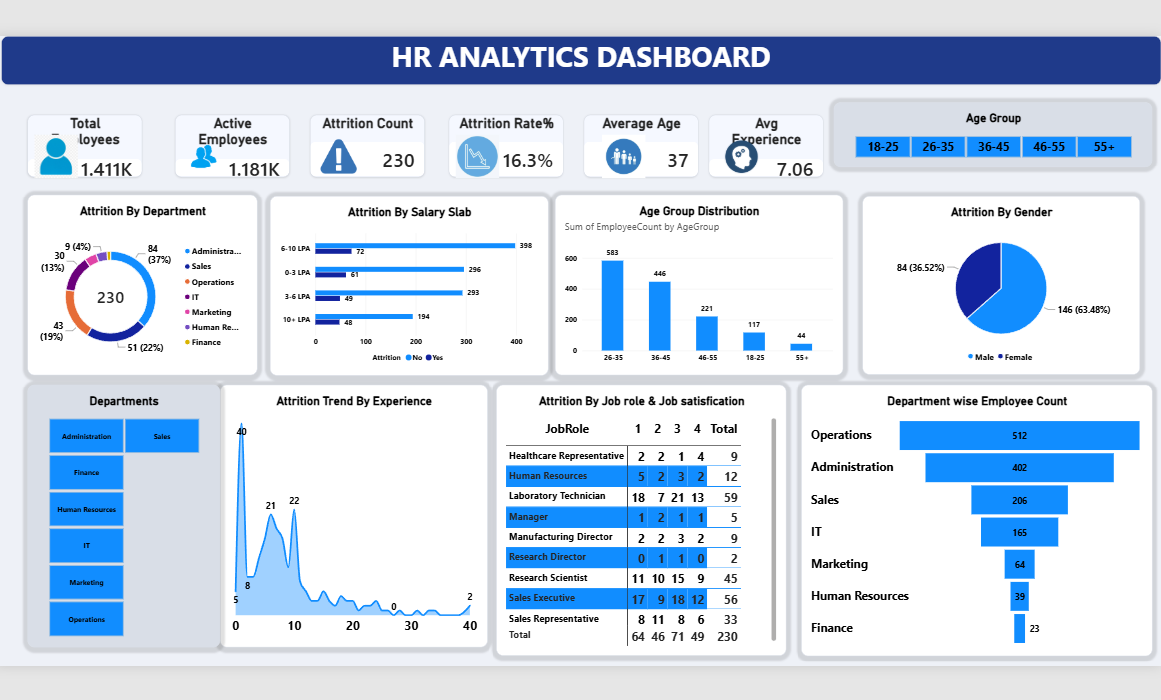

The dashboard page shown, as its layout file describes it:
{"tool":"powerbi","page":{"name":"Page 1","canvas":[2000,1080],"ordinal":0},"visuals":[{"type":"textbox","box":[10.7,0,1989.7,83.6],"z":0},{"type":"cardVisual","title":"Total Employees","fields":{"Data":["CountNonNull(HR_Analytics-4.EmpID)"]},"box":[55.6,135.8,197,107],"z":1000},{"type":"cardVisual","title":"Active Employees","fields":{"Data":["Sum(HR_Analytics-4.EmployeeCount)"]},"box":[308.7,135.8,197,107],"z":2000},{"type":"cardVisual","title":"Attrition Count","fields":{"Data":["Sum(HR_Analytics-4.AttritionCount)"]},"box":[541.3,135.8,197,107],"z":3000},{"type":"cardVisual","title":"Attrition Rate%","fields":{"Data":["HR_Analytics-4.Attrition Rate %"]},"box":[778,135.8,197,107],"z":4000},{"type":"cardVisual","title":"Average Age","fields":{"Data":["Avg(HR_Analytics-4.Age)"]},"box":[1010.6,135.8,197,107],"z":5000},{"type":"cardVisual","title":"Avg Experience","fields":{"Data":["Avg(HR_Analytics-4.YearsatCompany)"]},"box":[1224.7,135.8,197,107],"z":6000},{"type":"image","box":[55.6,168.8,98.8,74.1],"z":7000},{"type":"image","box":[1224.7,168.8,113.2,74.1],"z":8000},{"type":"image","box":[1029.2,168.8,98.8,74.1],"z":9000},{"type":"image","box":[778,168.8,98.8,74.1],"z":10000},{"type":"image","box":[541.3,168.8,98.8,74.1],"z":11000},{"type":"image","box":[308.7,168.8,98.8,74.1],"z":12000},{"type":"donutChart","title":" Attrition By Department","fields":{"Y":["Sum(HR_Analytics-4.AttritionCount)"],"Category":["HR_Analytics-4.Department"]},"box":[56.1,273.3,394.5,309.5],"z":13000},{"type":"clusteredBarChart","title":"Attrition By Salary Slab","fields":{"Category":["HR_Analytics-4.SalarySlab"],"Y":["CountNonNull(HR_Analytics-4.EmpID)"],"Series":["HR_Analytics-4.Attrition"]},"box":[472.3,275.1,477.8,307.6],"z":14000},{"type":"pivotTable","title":"Attrition By Job role & Job satisfication ","fields":{"Rows":["HR_Analytics-4.JobRole"],"Values":["Sum(HR_Analytics-4.AttritionCount)"],"Columns":["HR_Analytics-4.JobSatisfaction"]},"box":[859.8,598.2,497.7,465.1],"z":15000},{"type":"columnChart","title":"Age Group Distribution","fields":{"Category":["HR_Analytics-4.AgeGroup"],"Y":["Sum(HR_Analytics-4.EmployeeCount)"]},"box":[961.4,272.9,494,309.5],"z":16000},{"type":"pieChart","title":"Attrition By Gender","fields":{"Category":["HR_Analytics-4.Gender"],"Y":["Sum(HR_Analytics-4.AttritionCount)"]},"box":[1488,274.4,476,306.6],"z":17000},{"type":"areaChart","title":"Attrition Trend By Experience","fields":{"Category":["HR_Analytics-4.TotalExperience(Years)"],"Y":["Sum(HR_Analytics-4.AttritionCount)"]},"box":[385.9,598.2,458.8,450.3],"z":18000},{"type":"funnel","title":"Department wise Employee Count","fields":{"Category":["HR_Analytics-4.Department"],"Y":["CountNonNull(HR_Analytics-4.EmpID)"]},"box":[1382.9,598.2,602.5,465.3],"z":19000},{"type":"slicer","title":"Departments","fields":{"Values":["HR_Analytics-4.Department"]},"box":[56,598,330,450],"z":20000},{"type":"slicer","title":"Age Group","fields":{"Values":["HR_Analytics-4.AgeGroup"]},"box":[1438.7,113.6,546.7,111.5],"z":20001}]}

Visuals, with their boxes on the page's 2000x1080 design canvas (x1, y1, x2, y2). These are canvas units, not pixel positions in the 1161x700 screenshot, which may show the page scaled, cropped or inside an application window:
textbox: (x1=11, y1=0, x2=2000, y2=84)
"Total Employees" cardVisual: (x1=56, y1=136, x2=253, y2=243)
"Active Employees" cardVisual: (x1=309, y1=136, x2=506, y2=243)
"Attrition Count" cardVisual: (x1=541, y1=136, x2=738, y2=243)
"Attrition Rate%" cardVisual: (x1=778, y1=136, x2=975, y2=243)
"Average Age" cardVisual: (x1=1011, y1=136, x2=1208, y2=243)
"Avg Experience" cardVisual: (x1=1225, y1=136, x2=1422, y2=243)
image: (x1=56, y1=169, x2=154, y2=243)
image: (x1=1225, y1=169, x2=1338, y2=243)
image: (x1=1029, y1=169, x2=1128, y2=243)
image: (x1=778, y1=169, x2=877, y2=243)
image: (x1=541, y1=169, x2=640, y2=243)
image: (x1=309, y1=169, x2=408, y2=243)
" Attrition By Department" donutChart: (x1=56, y1=273, x2=451, y2=583)
"Attrition By Salary Slab" clusteredBarChart: (x1=472, y1=275, x2=950, y2=583)
"Attrition By Job role & Job satisfication " pivotTable: (x1=860, y1=598, x2=1358, y2=1063)
"Age Group Distribution" columnChart: (x1=961, y1=273, x2=1455, y2=582)
"Attrition By Gender" pieChart: (x1=1488, y1=274, x2=1964, y2=581)
"Attrition Trend By Experience" areaChart: (x1=386, y1=598, x2=845, y2=1048)
"Department wise Employee Count" funnel: (x1=1383, y1=598, x2=1985, y2=1064)
"Departments" slicer: (x1=56, y1=598, x2=386, y2=1048)
"Age Group" slicer: (x1=1439, y1=114, x2=1985, y2=225)
